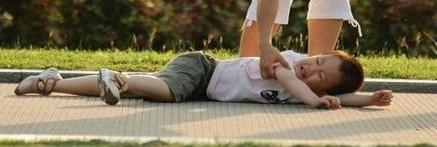Fall-Detected: (5, 40, 389, 108)
